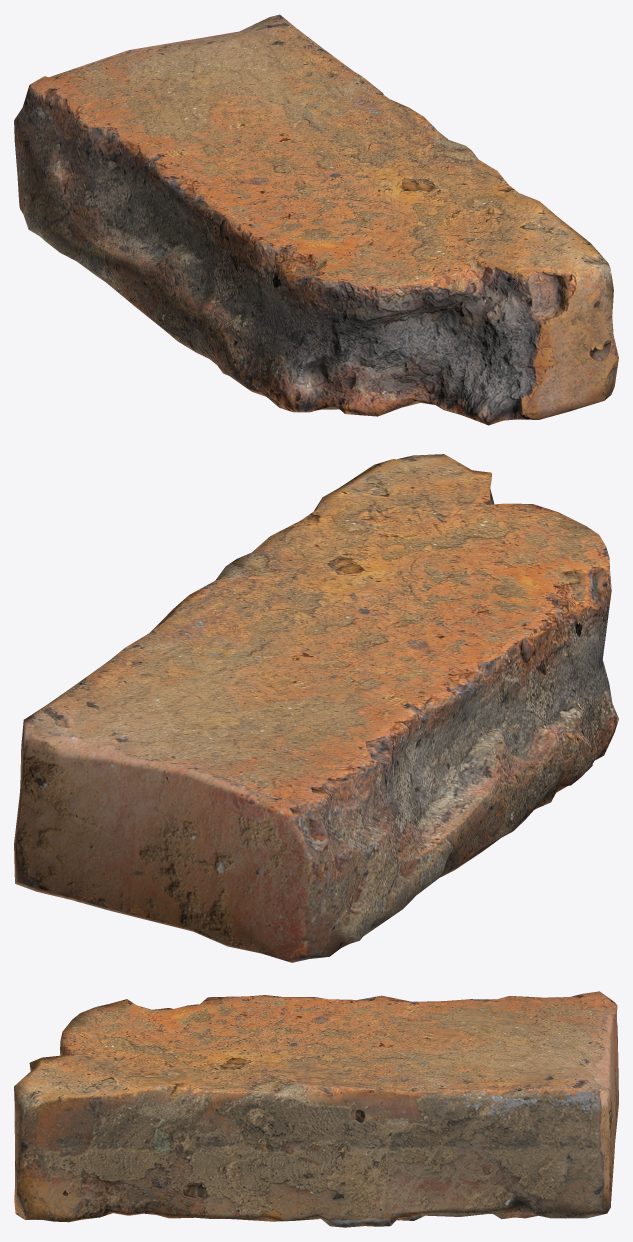
Rendered from sm_Brick_04_01.fbx.
3 views of the same model, one above another, from view 1: azimuth 30°, elevation 25°; view 2: azimuth 150°, elevation 25°; view 3: azimuth 270°, elevation 25° (orthographic). The views are drawn at different scales.
Visible parts, largest first — view 1: sm_Brick_04_01_LOD0; view 2: sm_Brick_04_01_LOD0; view 3: sm_Brick_04_01_LOD0.
Part boxes in pixels (x1,y1,x2,y2): sm_Brick_04_01_LOD0: [14, 14, 618, 425]; sm_Brick_04_01_LOD0: [14, 454, 618, 962]; sm_Brick_04_01_LOD0: [14, 991, 618, 1227].
Bounding box in the file's own units: 12.46 × 25.83 × 6.64.
